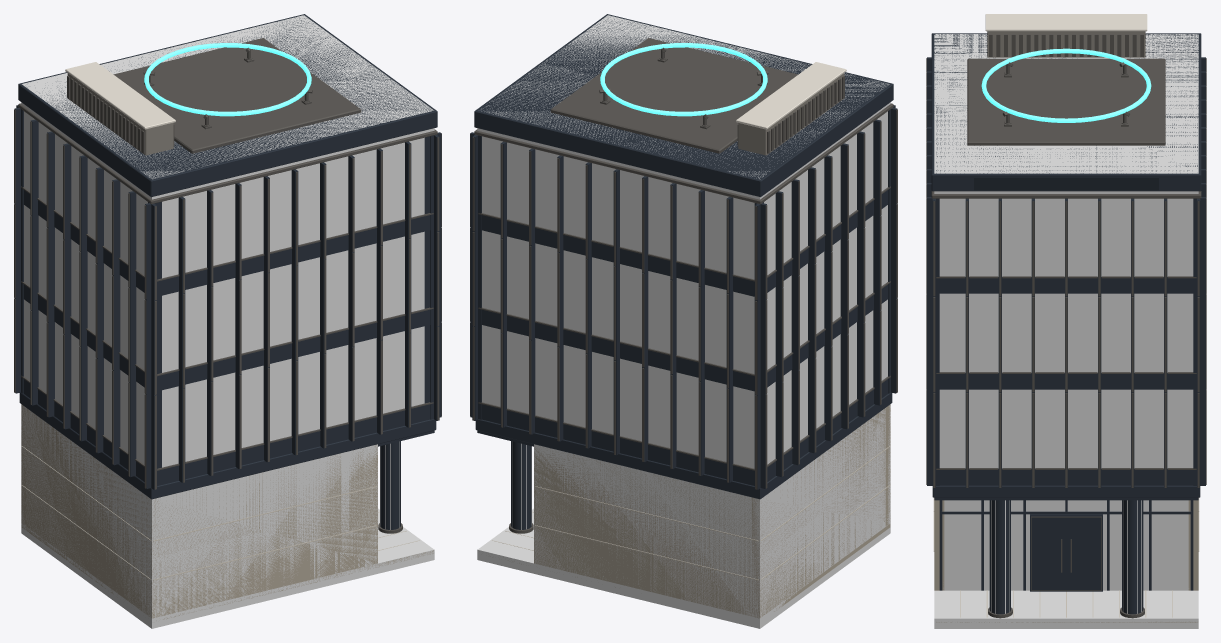
The picture shows the model from 3 angles, left to right: view 1: azimuth 30°, elevation 25°; view 2: azimuth 150°, elevation 25°; view 3: azimuth 270°, elevation 25°; orthographic projection.
Parts seen in each view (by area): view 1: T06_body, col_tower, col_lobby, col_floor, T06_ring; view 2: T06_body, col_tower, col_lobby, col_floor, T06_ring; view 3: T06_body, col_tower, col_lobby, col_floor, T06_ring, col_column_+2, col_column_-2.
Boxes of the visible parts, bbox=[...] form: T06_body: bbox=[14, 14, 441, 620]; col_tower: bbox=[21, 15, 434, 467]; col_lobby: bbox=[21, 405, 377, 618]; col_floor: bbox=[21, 508, 434, 628]; T06_ring: bbox=[144, 43, 311, 116]; T06_body: bbox=[470, 14, 897, 618]; col_tower: bbox=[477, 15, 890, 468]; col_lobby: bbox=[534, 404, 890, 618]; col_floor: bbox=[477, 508, 890, 628]; T06_ring: bbox=[600, 43, 767, 116]; T06_body: bbox=[926, 14, 1206, 622]; col_tower: bbox=[934, 34, 1198, 468]; col_lobby: bbox=[943, 500, 1188, 590]; col_floor: bbox=[934, 590, 1198, 628]; T06_ring: bbox=[981, 48, 1151, 122]; col_column_+2: bbox=[1123, 500, 1141, 613]; col_column_-2: bbox=[991, 500, 1009, 613].
Bounding box in the file's own units: 10.49 × 16.18 × 8.49.
